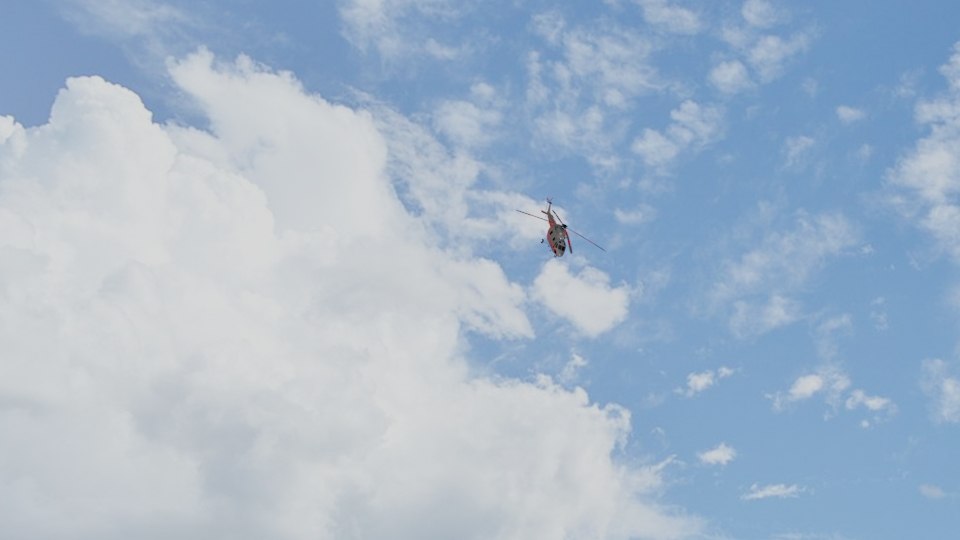heli: (531, 191, 575, 261)
